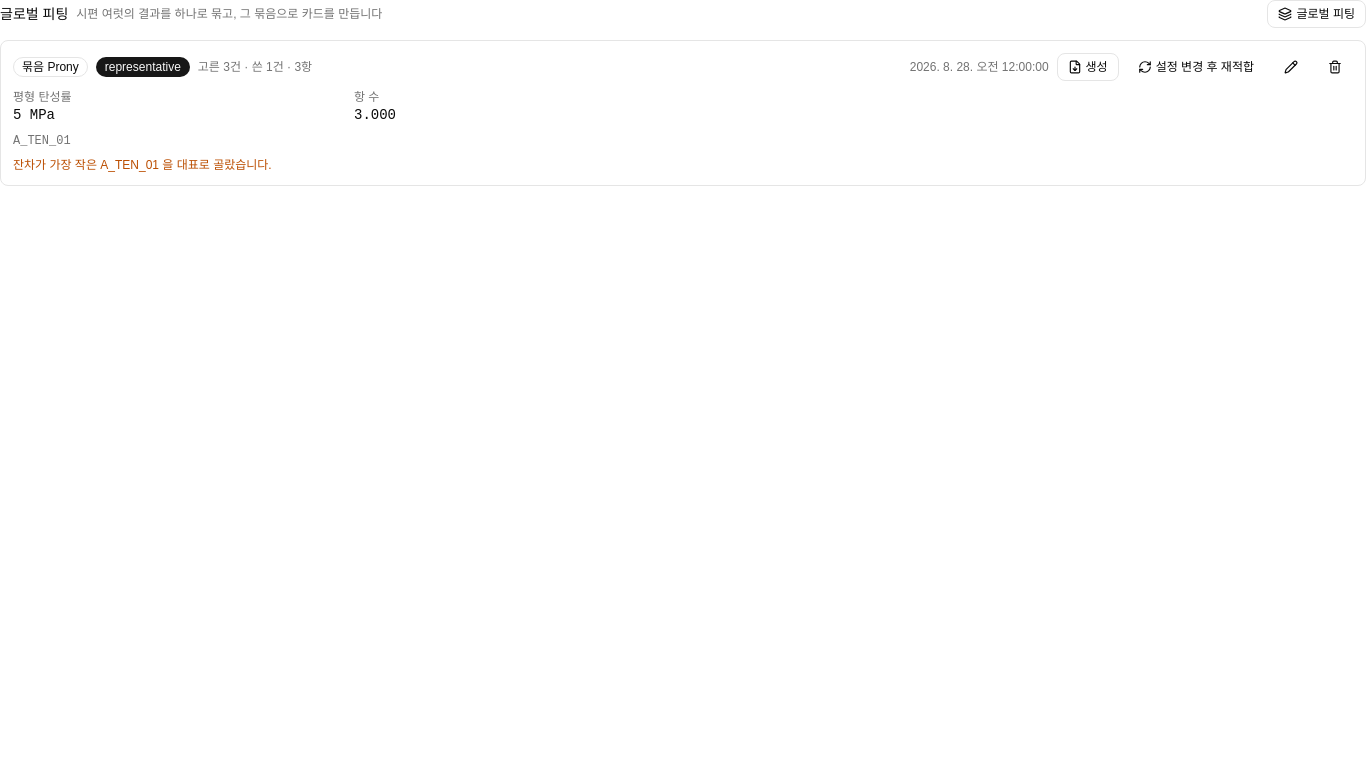
Test: 쓰기 쉽게 › 무엇이 나오는지 먼저 말한다
Expected: the text "고른 3건 · 쓴 1건 · 3항" is shown, [198,59,312,75]
Click the button "글로벌 피팅" at coordinates (1317, 14), box [1268,0,1365,28]
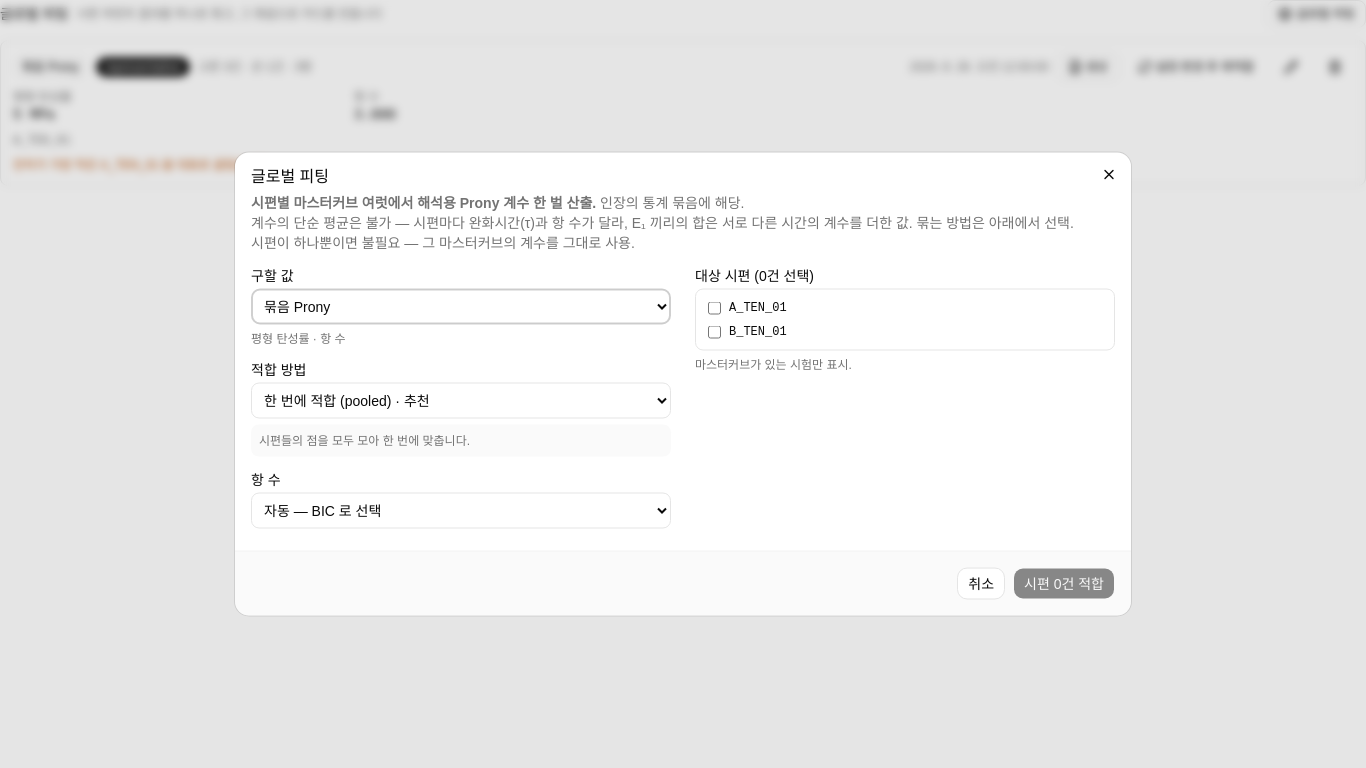
Expected: the text "평형 탄성률 · 항 수" is shown, [251,332,346,346]
